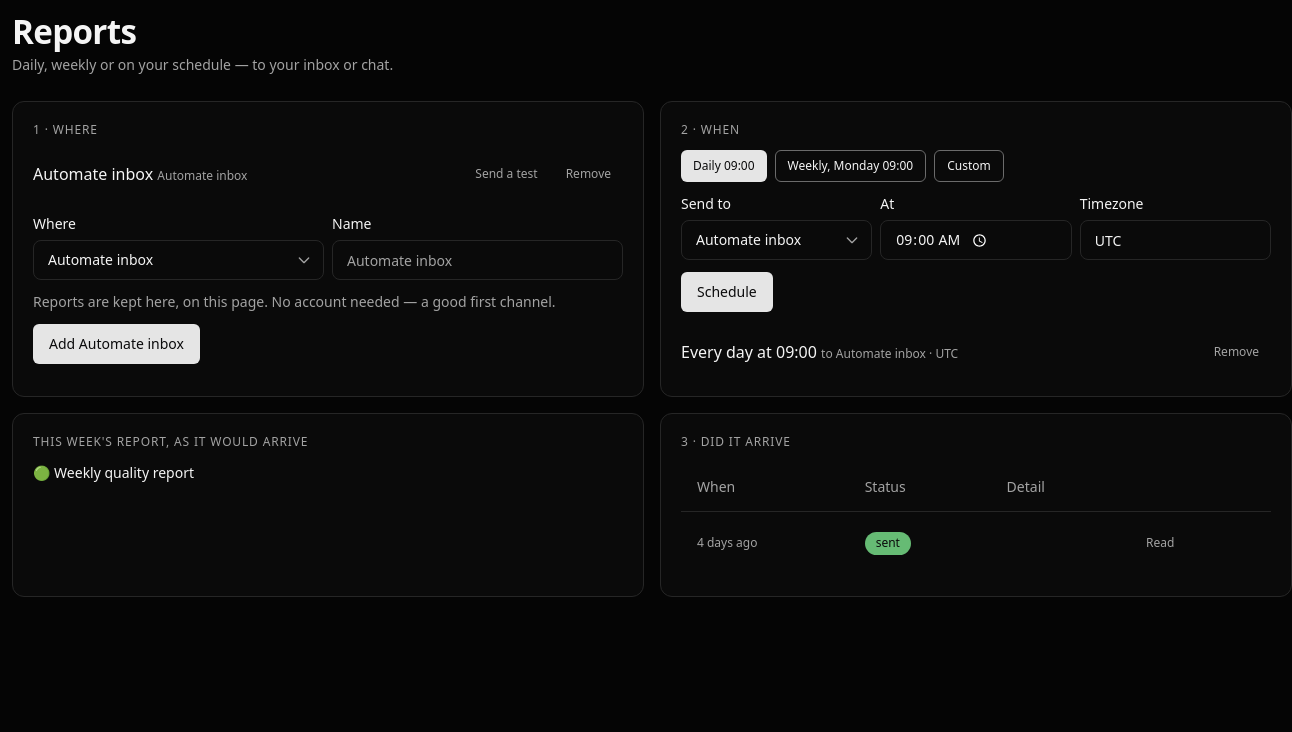
Test: NotificationsPage › removes a channel and a schedule, and says when it cannot
This screenshot has width=1292, height=732.
Click the 1st button "Remove" at (588, 174), box [554, 158, 623, 190]
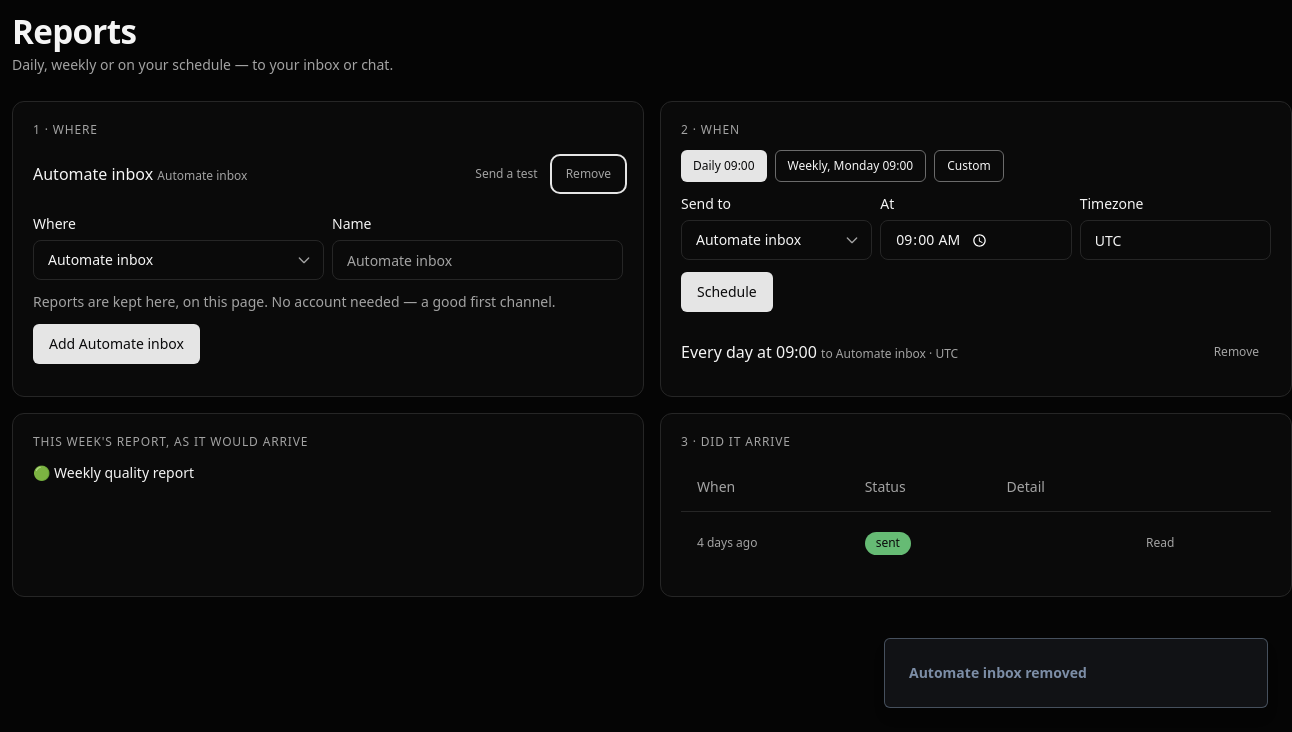
Now the text "Automate inbox removed" is shown, box [909, 663, 1087, 683]
Click the 1st button "Remove" at (588, 174), box [554, 158, 623, 190]
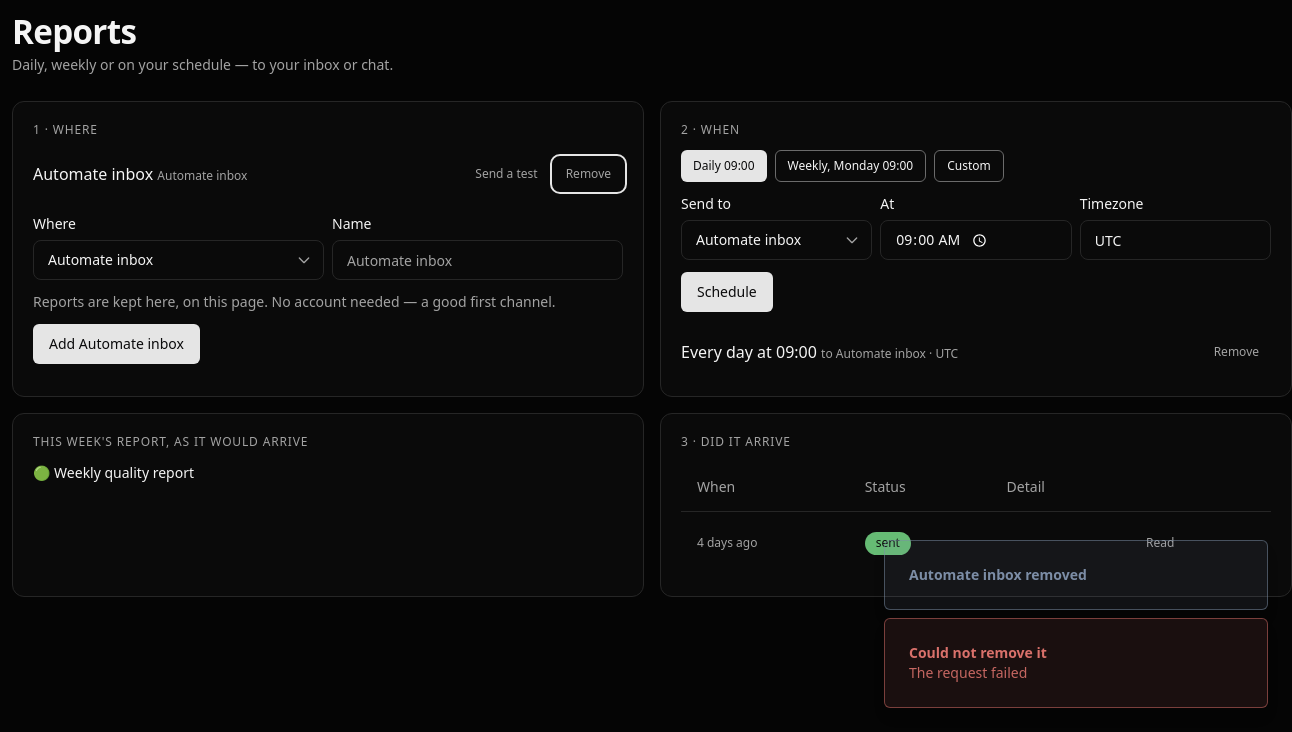
Now the text "Could not remove it" is shown, box [909, 643, 1047, 663]
Click the button "Remove" in the row of "Every day at 09:00" at (1236, 352), box [1202, 336, 1271, 368]
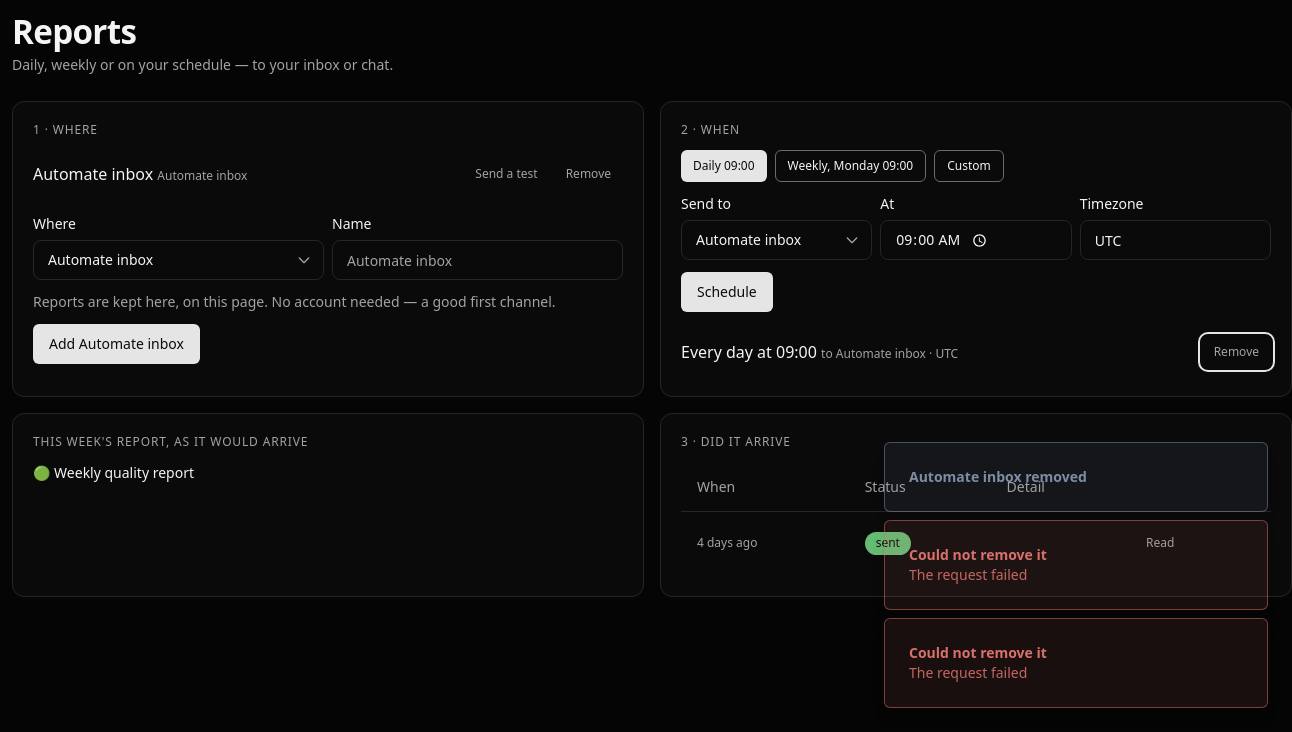
Click the button "Schedule" at (727, 292), box [681, 272, 773, 312]
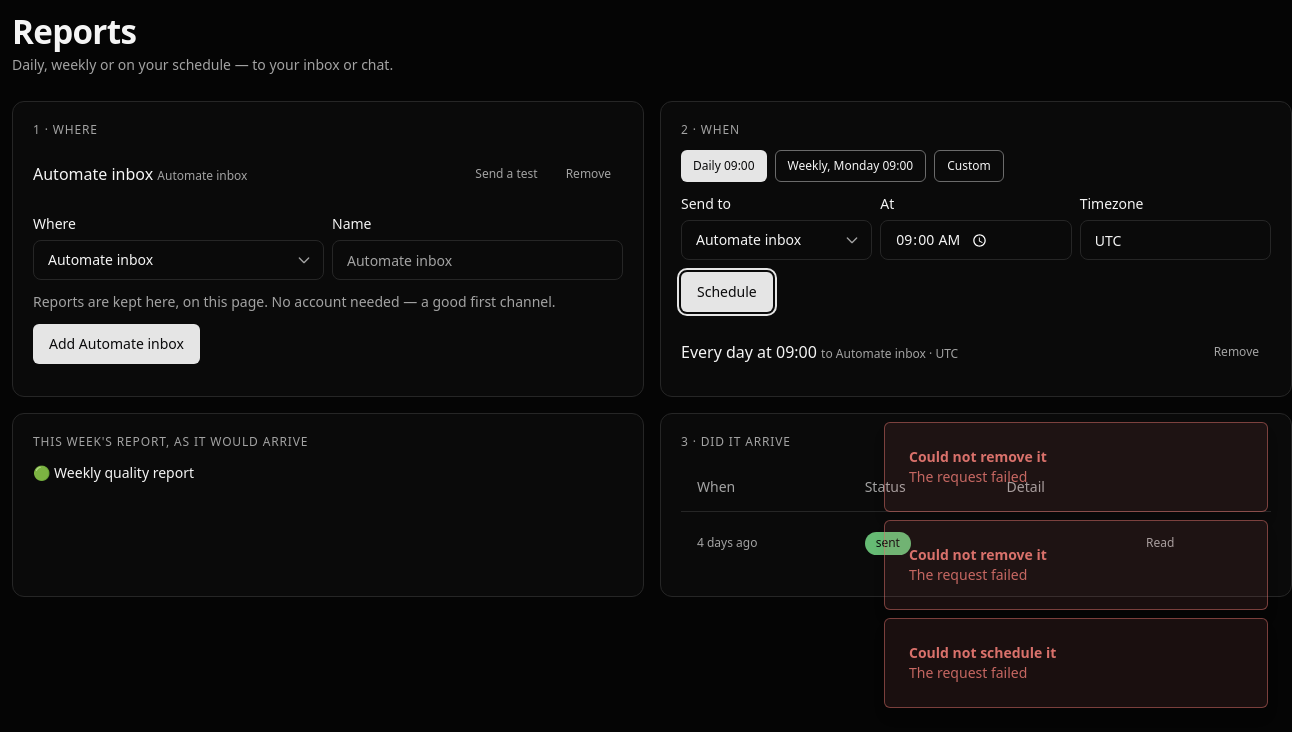
Now the text "Could not schedule it" is shown, box [909, 643, 1056, 663]
Click the button "Add Automate inbox" at (116, 344), box [33, 324, 200, 364]
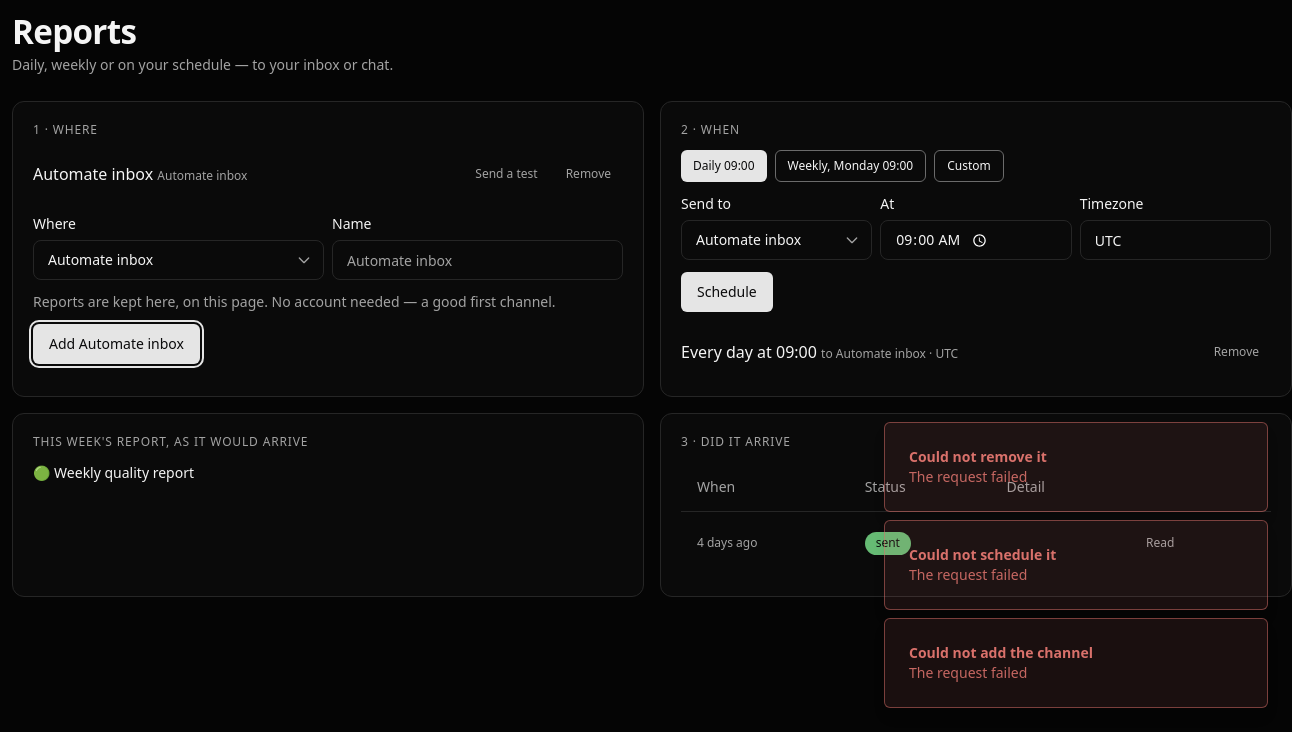
Now the text "Could not add the channel" is shown, box [909, 643, 1093, 663]
